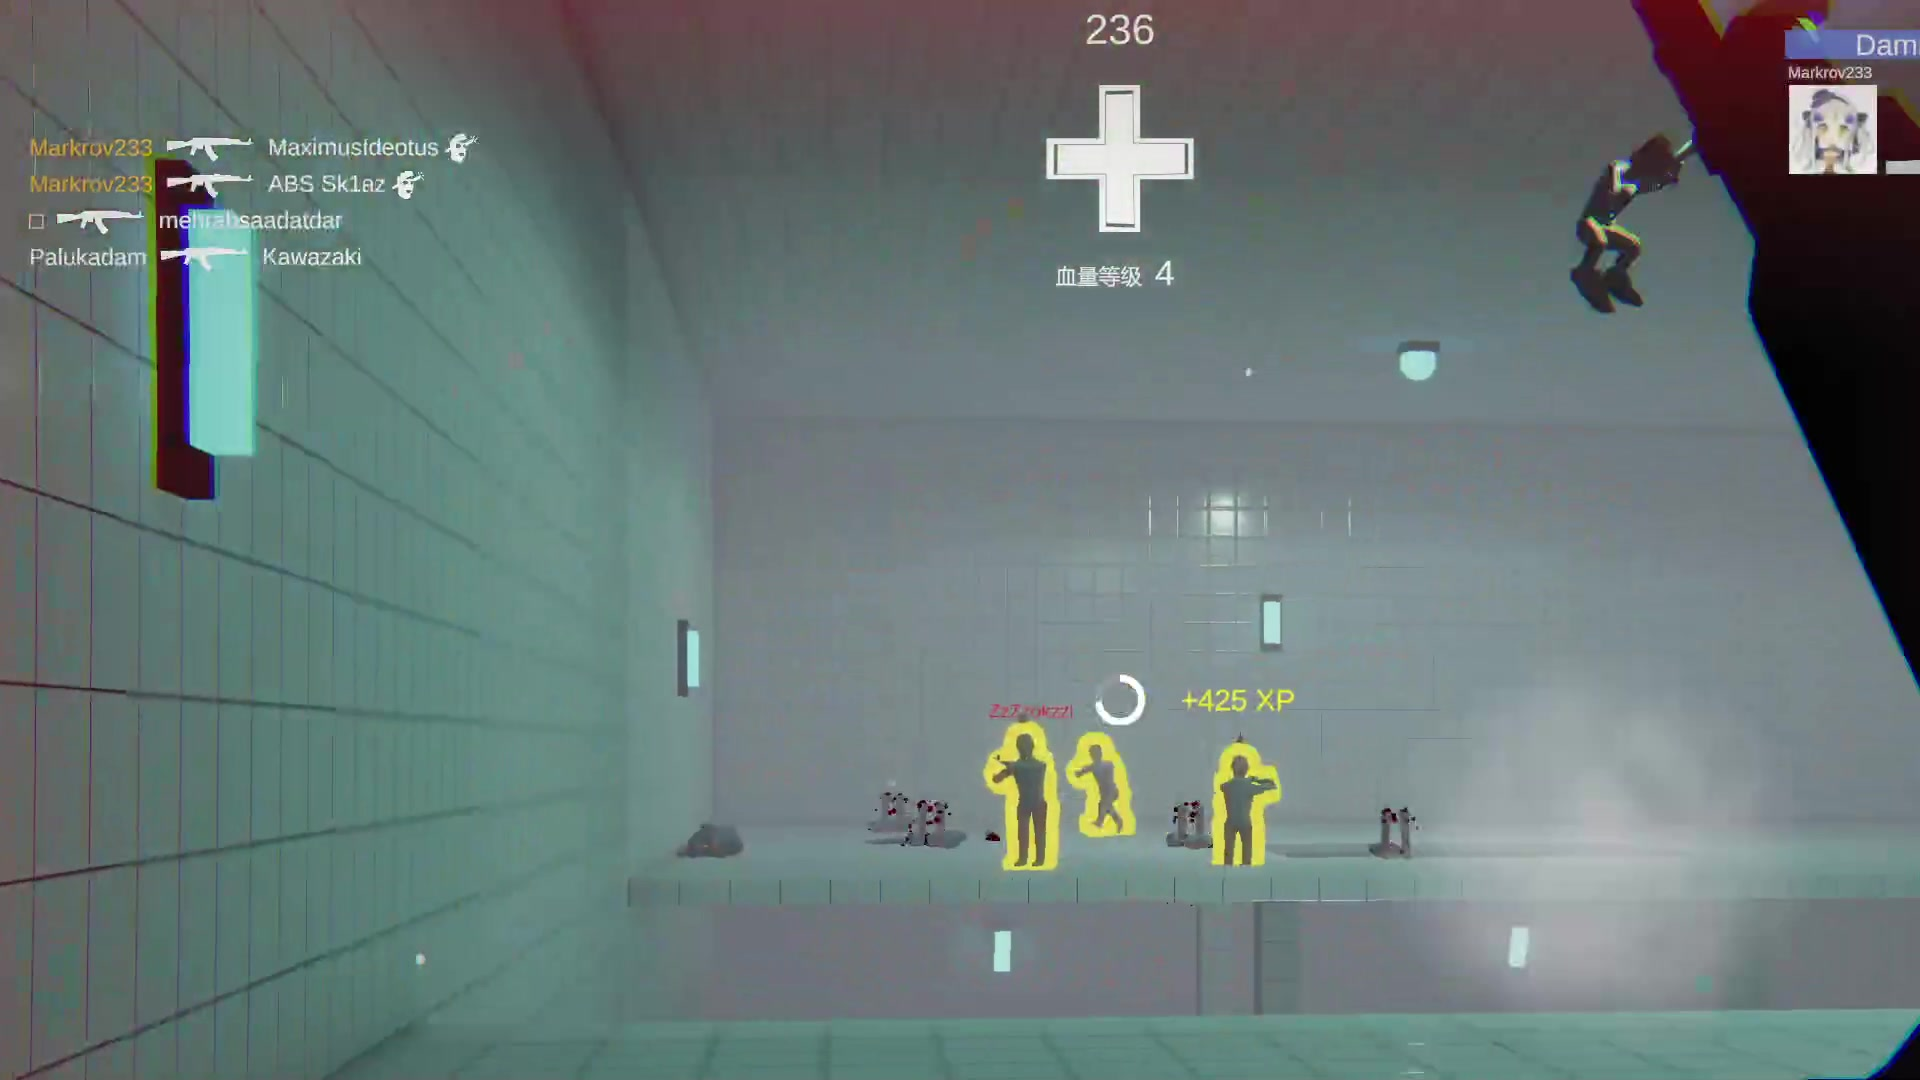human: (1206, 728, 1268, 876), (1007, 718, 1061, 876), (1071, 735, 1133, 841)
